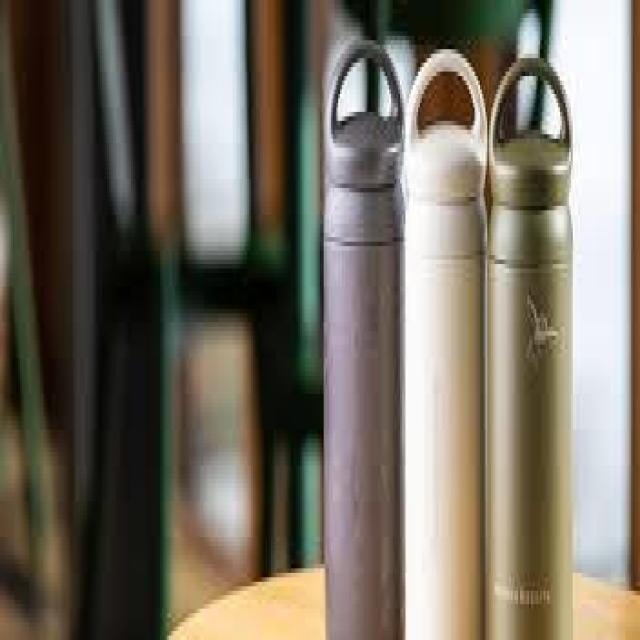bottle: (488, 31, 572, 640), (404, 36, 484, 640), (327, 36, 404, 640)
